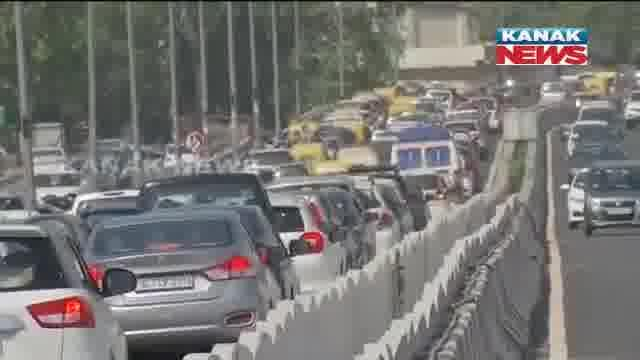AMBULANCE: (385, 133, 466, 170)
